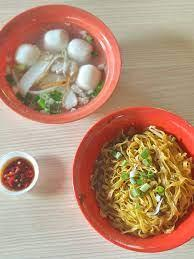Braised Crucian Carp: (72, 105, 192, 252), (0, 4, 122, 124)
